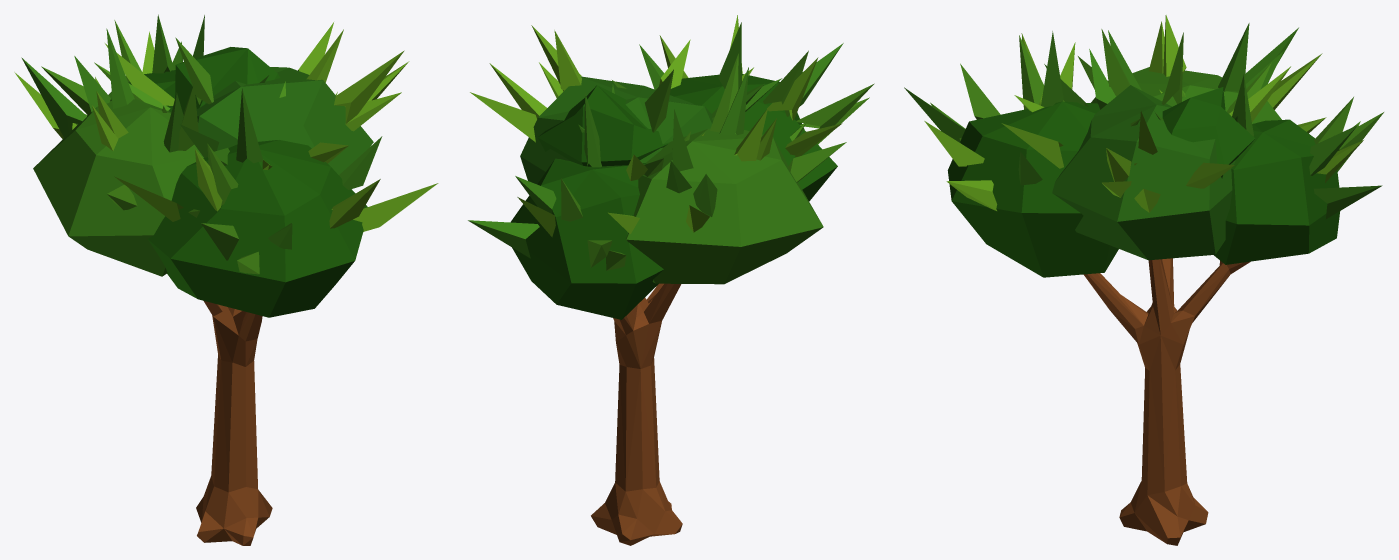
The model's file is broadleaf_b.gltf.
The picture shows the model from 3 angles, left to right: view 1: azimuth 30°, elevation 25°; view 2: azimuth 150°, elevation 25°; view 3: azimuth 270°, elevation 25°; orthographic projection. The views are drawn at different scales.
Parts seen in each view (by area): view 1: broadleaf_b; view 2: broadleaf_b; view 3: broadleaf_b.
Part boxes in pixels (left/top/right/bottom): broadleaf_b: left=14, top=14, right=438, bottom=545; broadleaf_b: left=468, top=15, right=874, bottom=545; broadleaf_b: left=904, top=15, right=1383, bottom=545.
Size of the model in its own units: 2.08 by 2.9 by 2.64.
